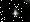person: (13, 9, 21, 20)
